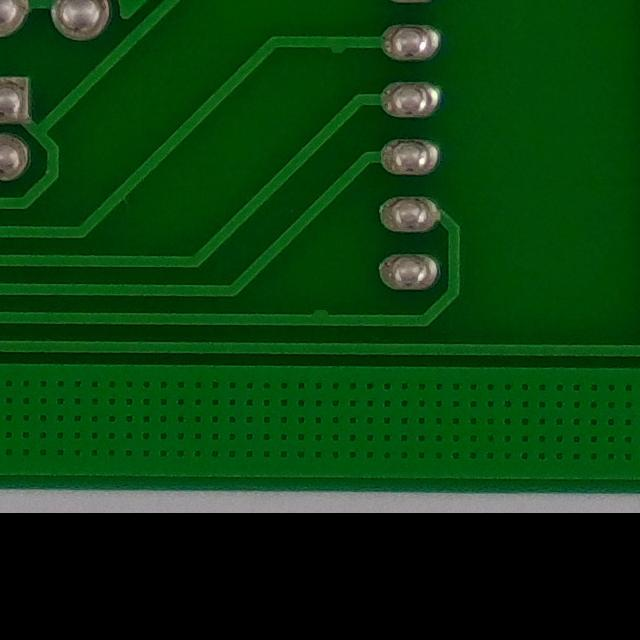spur: (302, 303, 339, 338)
